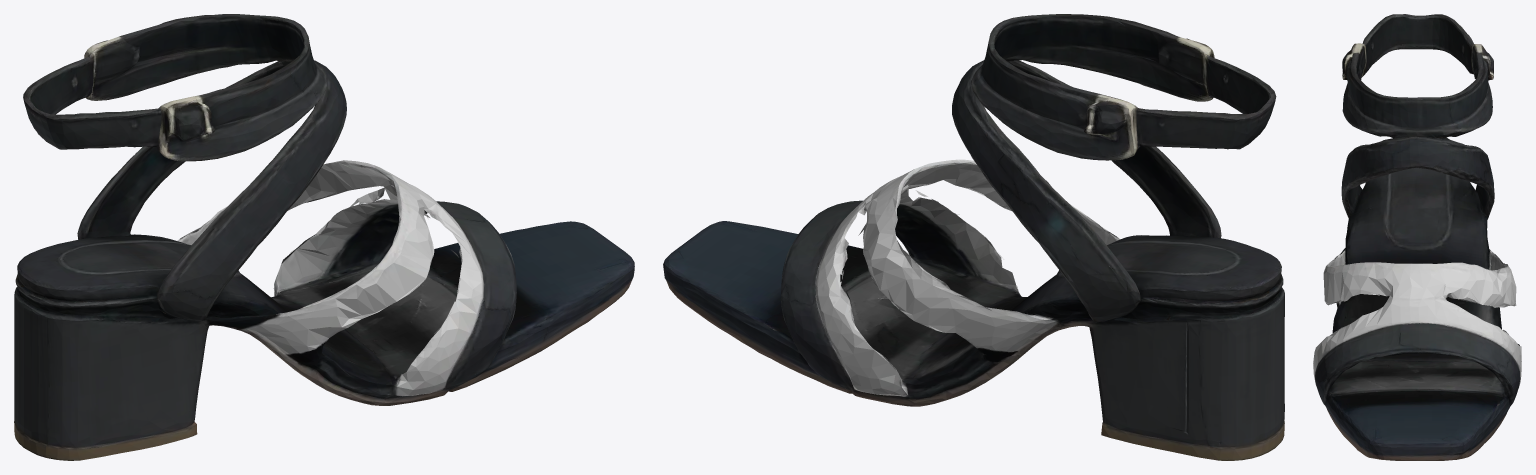
3 views of the same model, side by side, from view 1: azimuth 30°, elevation 25°; view 2: azimuth 150°, elevation 25°; view 3: azimuth 270°, elevation 25° (orthographic). The views are drawn at different scales.
Visible parts, largest first — view 1: world; view 2: world; view 3: world.
Boxes of the visible parts, bbox=[...] form: world: bbox=[14, 14, 634, 460]; world: bbox=[663, 14, 1284, 460]; world: bbox=[1313, 14, 1521, 460].
Size of the model in its own units: 1 by 0.5809 by 0.3959.
1 material, 1 textured.
